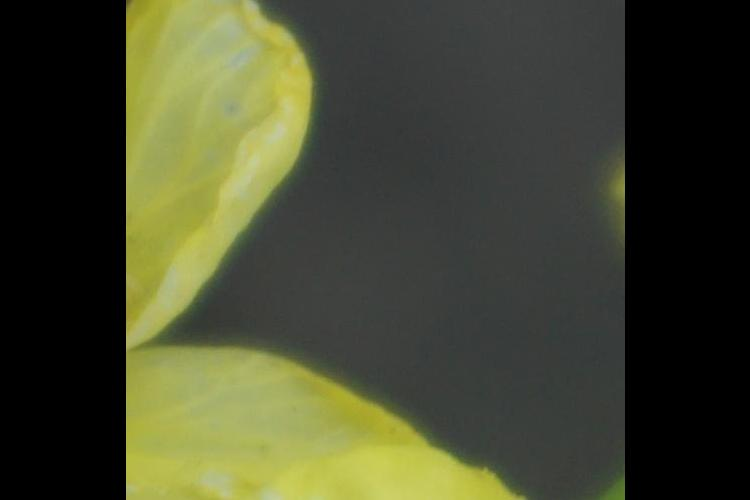yellow: (136, 1, 559, 500)
